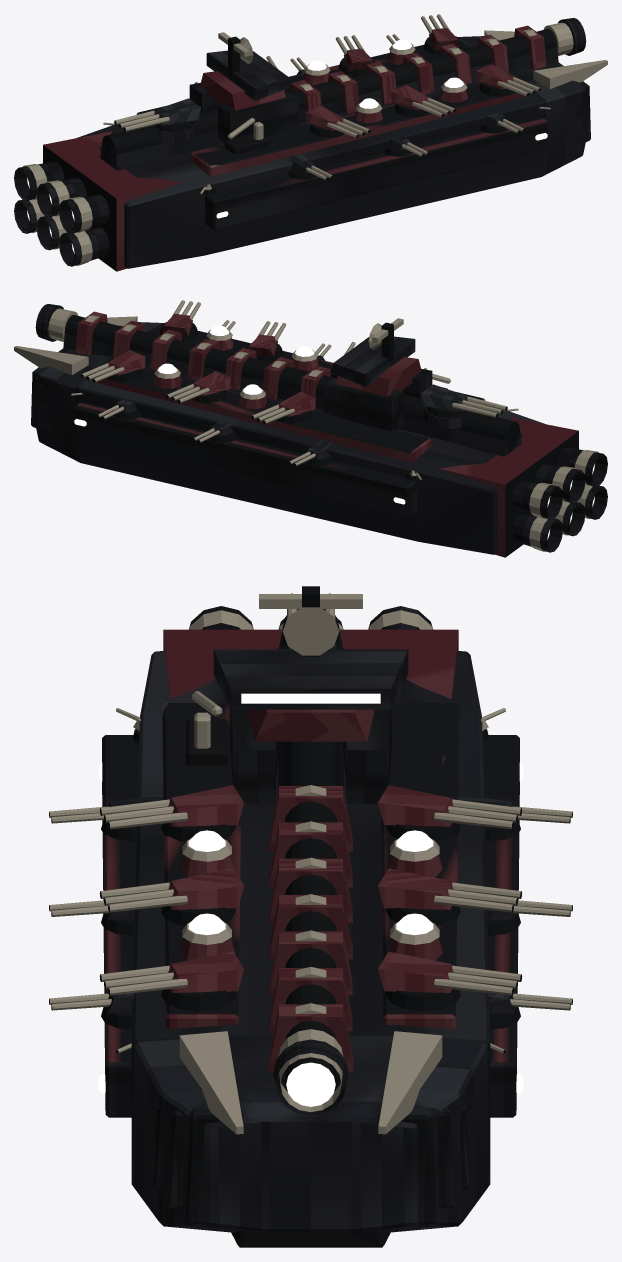
File: battleship.glb
3 views of the same model, one above another, from view 1: azimuth 30°, elevation 25°; view 2: azimuth 150°, elevation 25°; view 3: azimuth 270°, elevation 25° (orthographic). The views are drawn at different scales.
Parts seen in each view (by area): view 1: hull_body, weapon_mounts, engine_block, sensor_tower, shield_domes; view 2: hull_body, weapon_mounts, engine_block, sensor_tower, shield_domes; view 3: hull_body, weapon_mounts, sensor_tower, engine_block, shield_domes.
Boxes of the visible parts, x1,y1,x2,y2 form: hull_body: (76,30,607,268); weapon_mounts: (100,14,586,195); engine_block: (14,131,181,271); sensor_tower: (189,32,298,142); shield_domes: (303,39,468,123); hull_body: (14,316,545,554); weapon_mounts: (35,300,521,481); engine_block: (440,417,607,557); sensor_tower: (323,318,432,431); shield_domes: (153,325,318,409); hull_body: (98,651,523,1247); weapon_mounts: (49,593,572,1116); sensor_tower: (213,586,408,803); engine_block: (163,606,458,699); shield_domes: (178,830,443,960).
Size of the model in its own units: 60 by 18.3 by 25.02.
Materials: 1 (1 with a texture image).
